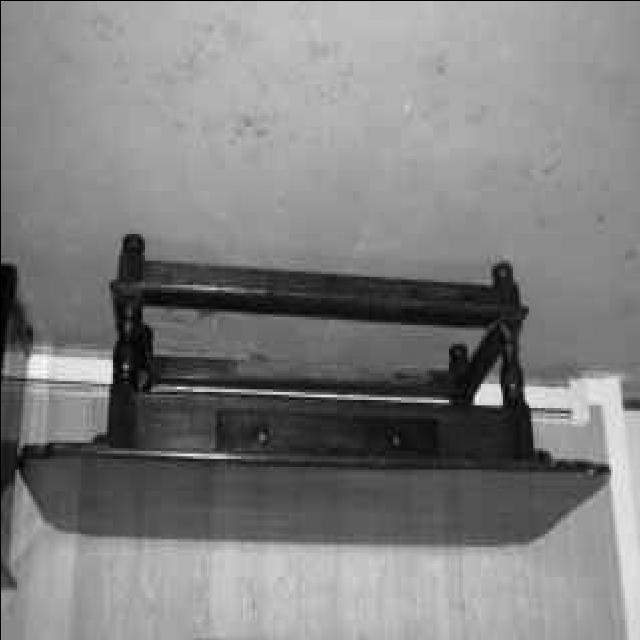table: (19, 236, 607, 542)
